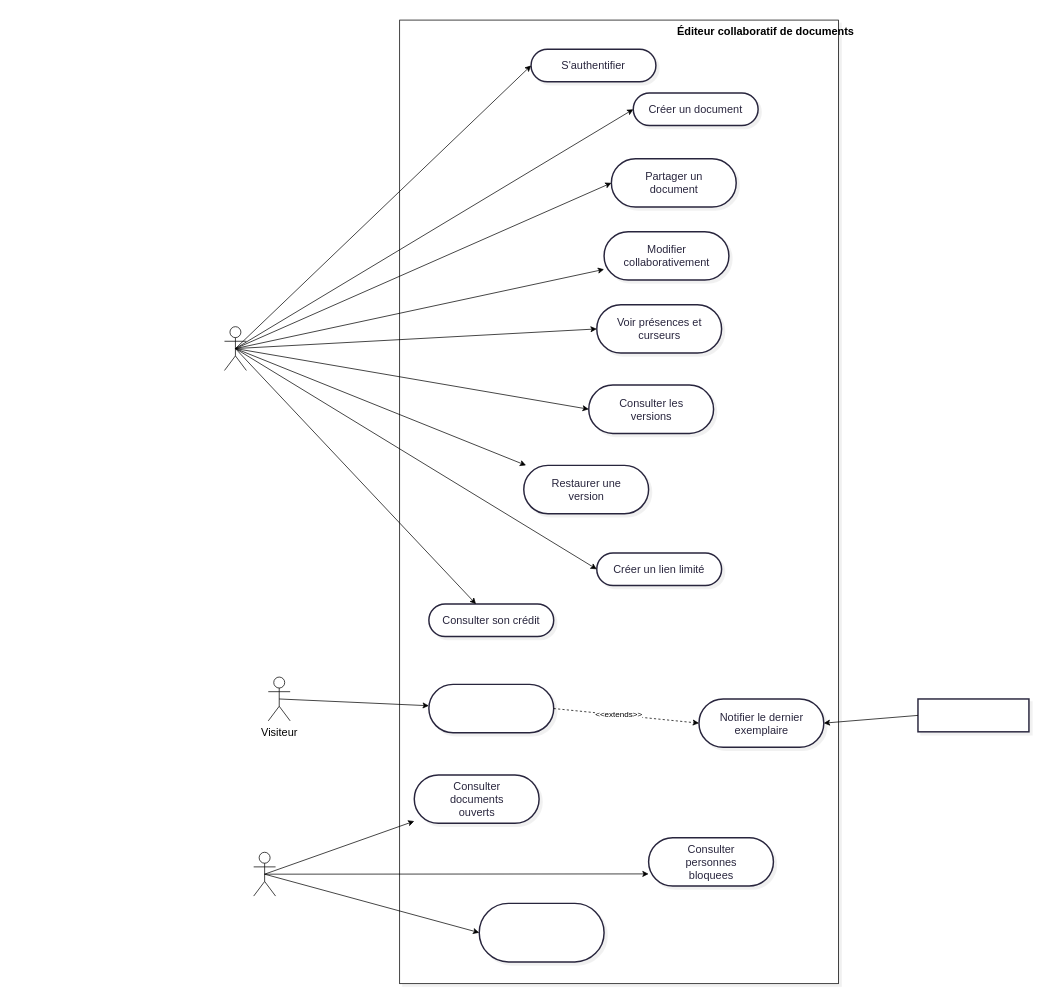
Some shapes in this 1045 by 999 pixel diagram are drawn without their labels. The centre of each missing label's shape, as x and y in pixels:
Administrateur: the point at 264,874
Consulter liens actifs et nombre de telechargements restant: the point at 542,933
Demander un téléchargement: the point at 492,709
Redacteur: the point at 235,348
Service d'e-mail: the point at 974,716
